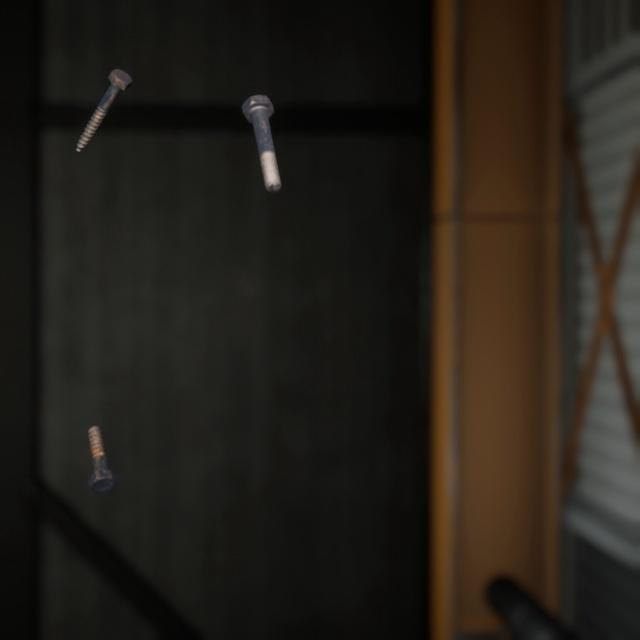bolt: (70, 52, 137, 144), (237, 77, 286, 183), (83, 401, 122, 476)
